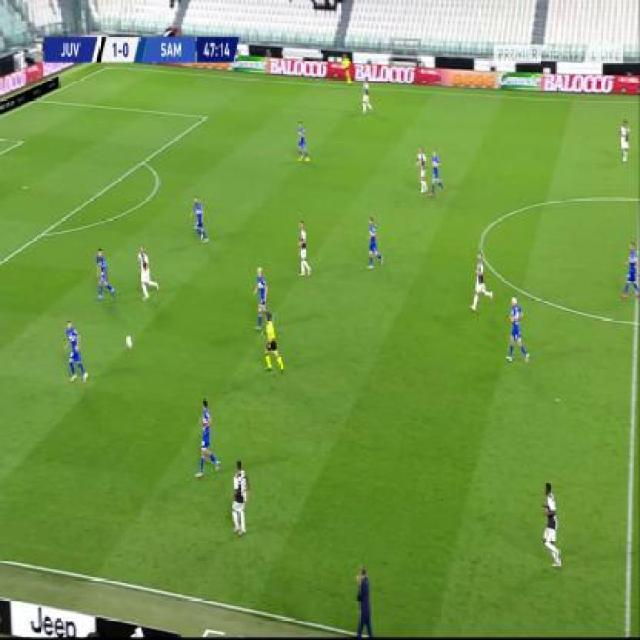ball: (125, 332, 134, 351)
player: (539, 479, 564, 570), (195, 395, 220, 478), (229, 456, 251, 536), (352, 560, 374, 639), (64, 317, 89, 383), (507, 294, 529, 365), (261, 311, 284, 373), (470, 253, 493, 313), (136, 243, 159, 303), (253, 263, 272, 329), (620, 238, 639, 301), (96, 246, 116, 303), (365, 214, 384, 271), (189, 194, 209, 245), (296, 218, 312, 278), (429, 148, 445, 199), (296, 118, 312, 163), (415, 146, 429, 197), (617, 115, 631, 163), (360, 74, 373, 114), (341, 51, 352, 84)
